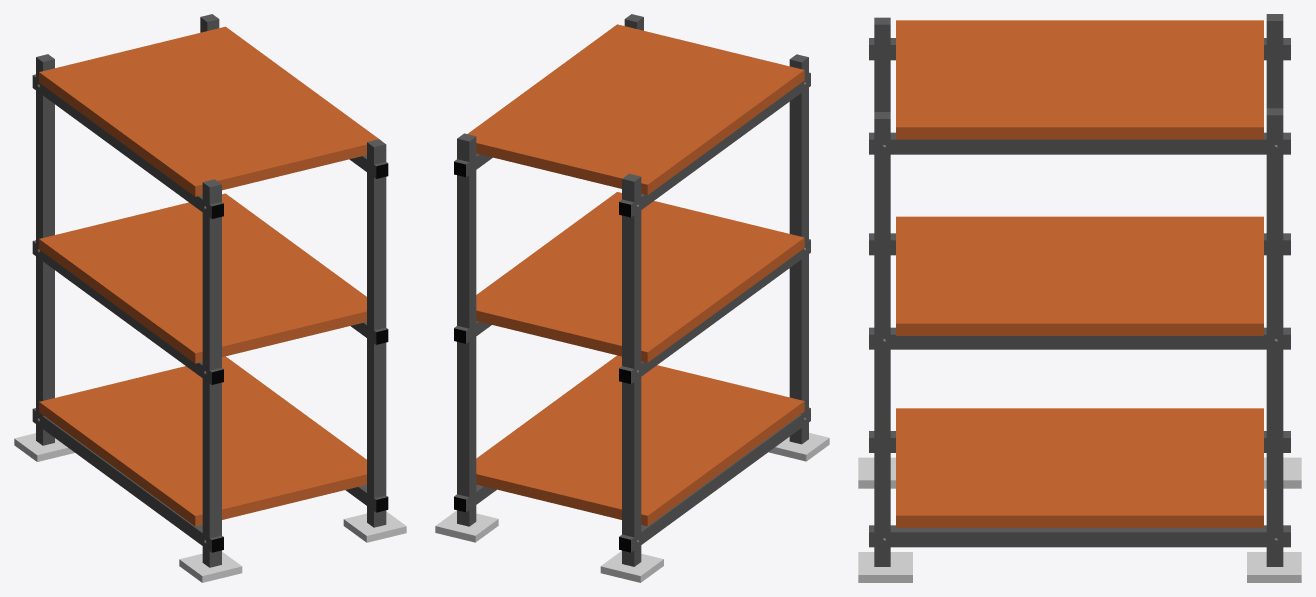
The model's file is Shelf.fbx.
The picture shows the model from 3 angles, left to right: view 1: azimuth 30°, elevation 25°; view 2: azimuth 150°, elevation 25°; view 3: azimuth 270°, elevation 25°; orthographic projection. The views are drawn at different scales.
Parts seen in each view (by area): view 1: Cube; view 2: Cube; view 3: Cube.
Boxes of the visible parts, box(x1,y1,x2,y2) form: Cube: box(14, 14, 406, 582); Cube: box(435, 14, 829, 582); Cube: box(858, 14, 1301, 582).
Bounding box in the file's own units: 1022 × 1865 × 1630.
